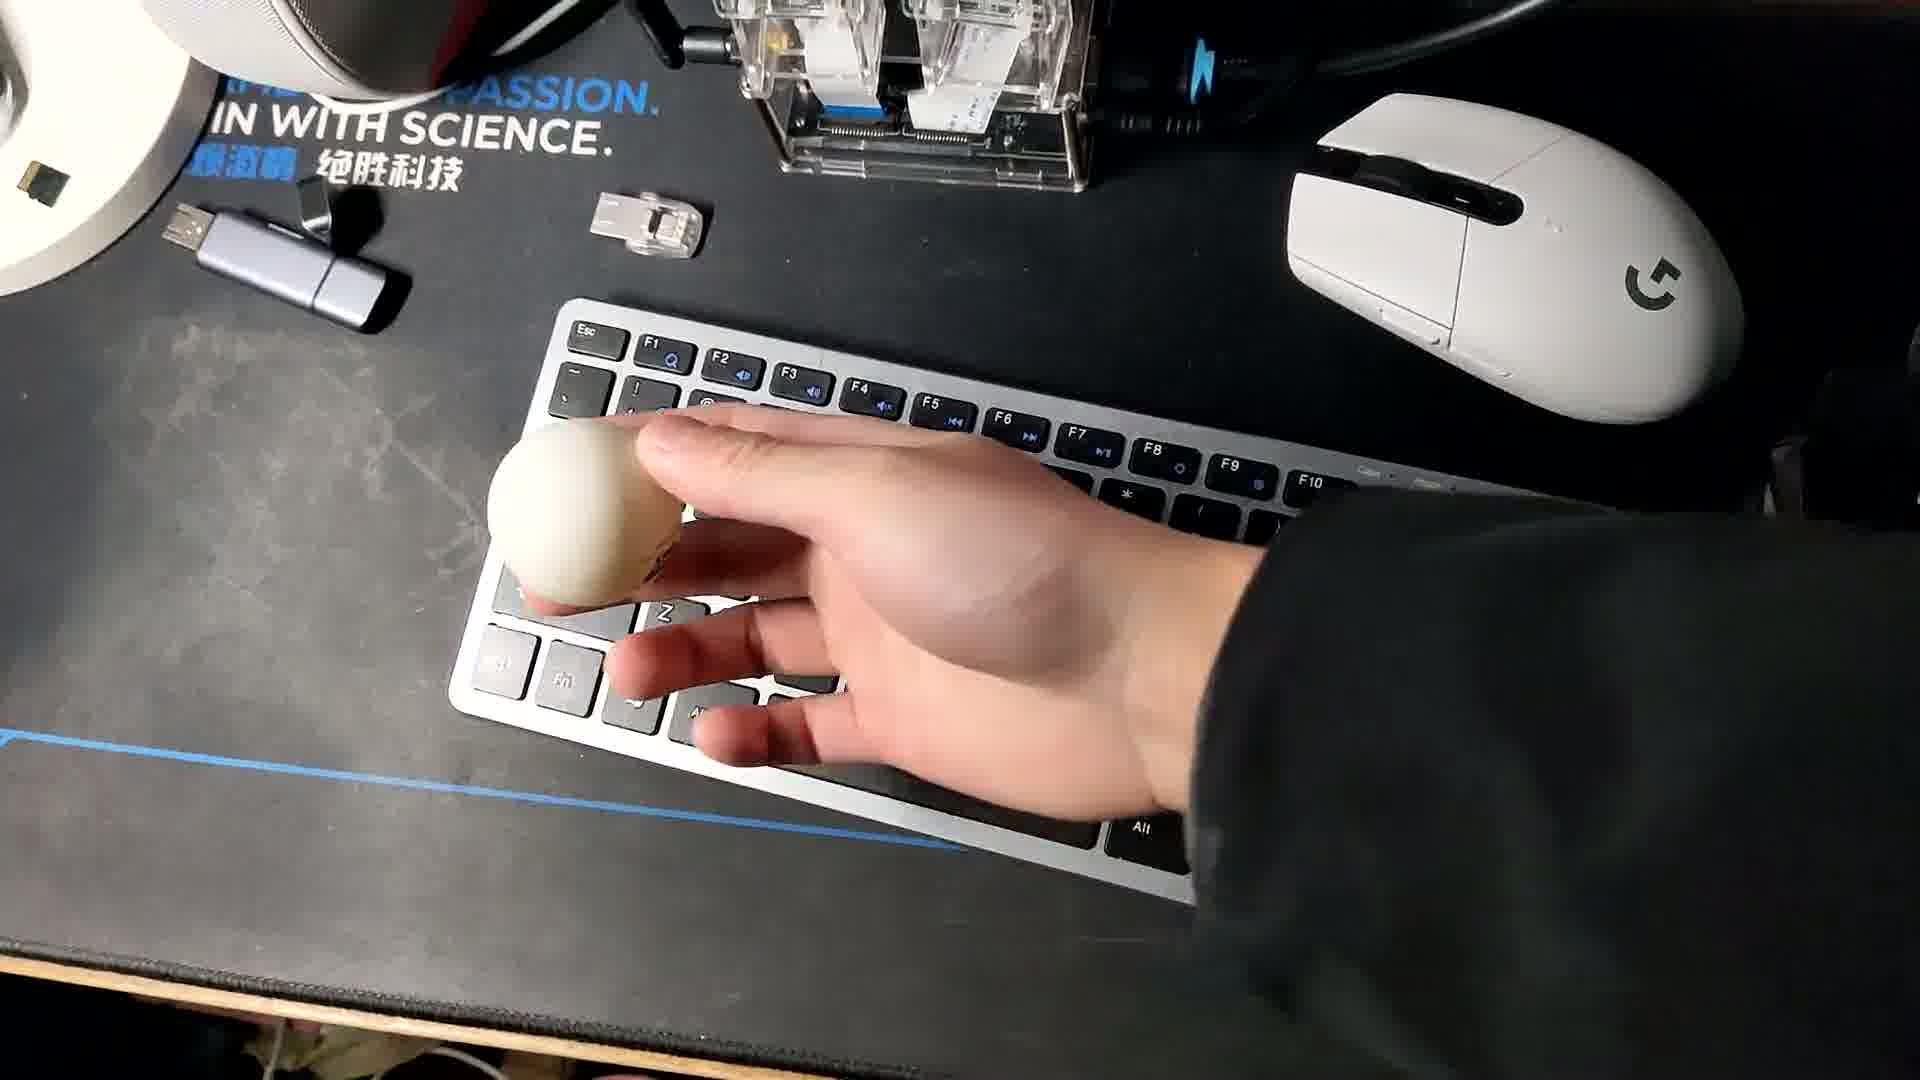Ball: (488, 405, 682, 620)
